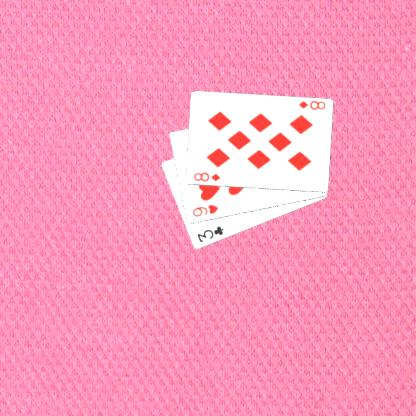3C: (194, 223, 225, 244)
8D: (191, 169, 222, 183), (295, 99, 326, 111)
9H: (189, 202, 219, 218)
